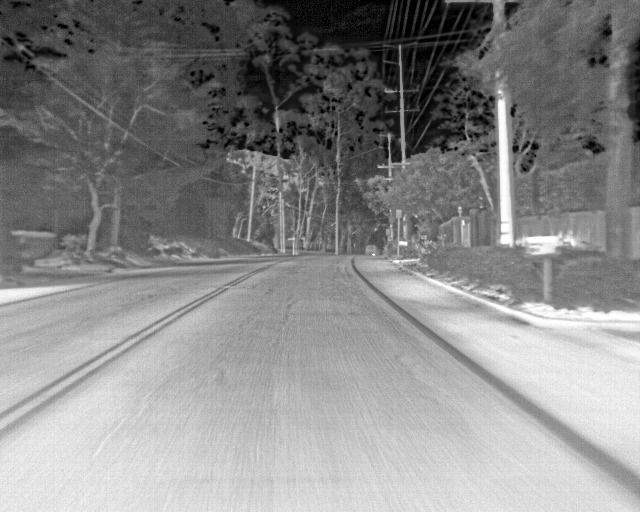car: (365, 244, 379, 258)
